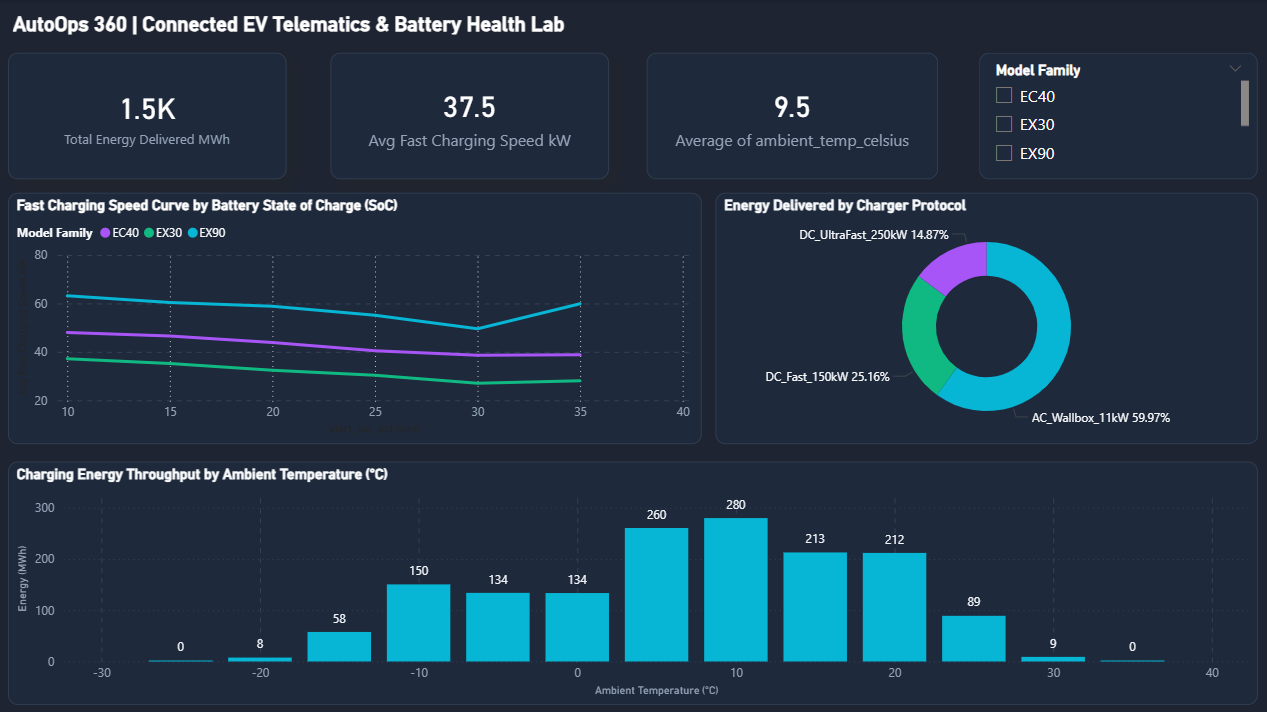

What the dashboard file says about the page in this screenshot:
{"tool":"powerbi","page":{"name":"Page 3","canvas":[1280,720],"ordinal":2},"visuals":[{"type":"card","fields":{"Values":["dim_dates.Total Energy Delivered MWh"]},"box":[10.1,54.1,280.3,127],"z":0},{"type":"card","fields":{"Values":["dim_dates.Avg Fast Charging Speed kW"]},"box":[334.4,54.1,280.3,127],"z":1000},{"type":"card","fields":{"Values":["Avg(fct_charging_telematics.ambient_temp_celsius)"]},"box":[652.4,54.1,292.9,127],"z":2000},{"type":"lineChart","title":"Fast Charging Speed Curve by Battery State of Charge (SoC)","fields":{"Category":["fct_charging_telematics.start_soc_pct (bins)"],"Y":["dim_dates.Avg Fast Charging Speed kW"],"Series":["dim_vehicles.model_family"]},"box":[10.1,194.8,697.6,252.7],"z":3000},{"type":"donutChart","title":"Energy Delivered by Charger Protocol","fields":{"Category":["fct_charging_telematics.charger_protocol"],"Y":["dim_dates.Total Energy Delivered MWh"]},"box":[721.5,194.8,545.5,252.7],"z":4000},{"type":"clusteredColumnChart","title":"Charging Energy Throughput by Ambient Temperature (°C)","fields":{"Y":["dim_dates.Total Energy Delivered MWh"],"Category":["fct_charging_telematics.ambient_temp_celsius (bins)"]},"box":[10.1,465.1,1257,245.1],"z":5000},{"type":"slicer","fields":{"Values":["dim_vehicles.model_family"]},"box":[986.7,54.1,280.3,127],"z":6000},{"type":"textbox","title":"AutoOps 360 | Connected EV Telematics & Battery Health Lab","box":[10.1,12.6,631,28.9],"z":7000}]}

Visuals, with their boxes in screenshot pixels (x1, y1, x2, y2), scaled from the page's 1280x720 canvas onto the 1267x712 screenshot:
card - dim_dates.Total Energy Delivered MWh: bbox=[10, 53, 287, 179]
card - dim_dates.Avg Fast Charging Speed kW: bbox=[331, 53, 608, 179]
card - Avg(fct_charging_telematics.ambient_temp_celsius): bbox=[646, 53, 936, 179]
"Fast Charging Speed Curve by Battery State of Charge (SoC)" lineChart: bbox=[10, 193, 701, 443]
"Energy Delivered by Charger Protocol" donutChart: bbox=[714, 193, 1254, 443]
"Charging Energy Throughput by Ambient Temperature (°C)" clusteredColumnChart: bbox=[10, 460, 1254, 702]
slicer - dim_vehicles.model_family: bbox=[977, 53, 1254, 179]
"AutoOps 360 | Connected EV Telematics & Battery Health Lab" textbox: bbox=[10, 12, 635, 41]
